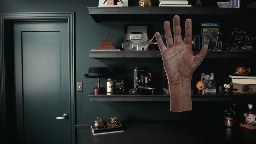Mano_aperta: (153, 13, 208, 82)
